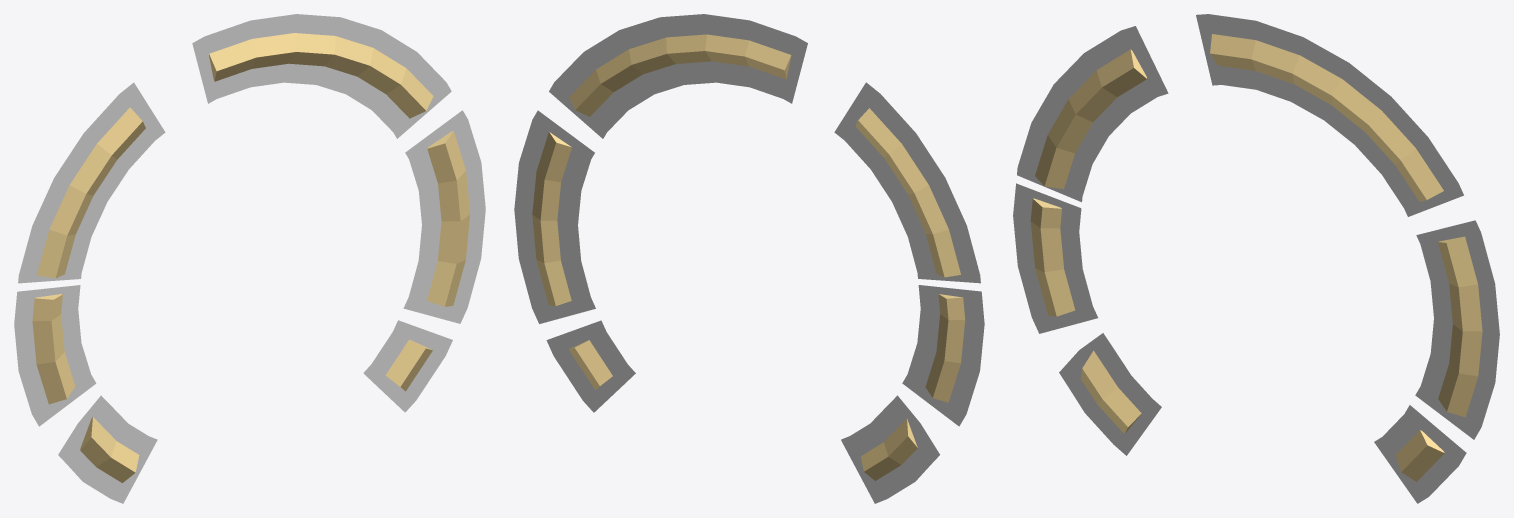
The model's file is HEAD_BROKEN_HALO_GOLD.fbx.
3 views of the same model, side by side, from view 1: azimuth 30°, elevation 25°; view 2: azimuth 150°, elevation 25°; view 3: azimuth 330°, elevation 25° (orthographic). The views are drawn at different scales.
Visible parts, largest first — view 1: HEAD_BROKEN_HALO_GOLD; view 2: HEAD_BROKEN_HALO_GOLD; view 3: HEAD_BROKEN_HALO_GOLD.
Part boxes in pixels (x1=…): HEAD_BROKEN_HALO_GOLD: x1=14, y1=14, x2=485, y2=503; HEAD_BROKEN_HALO_GOLD: x1=514, y1=14, x2=984, y2=503; HEAD_BROKEN_HALO_GOLD: x1=1013, y1=14, x2=1499, y2=503.
Bounding box in the file's own units: 0.038 × 0.0349 × 0.00146.
